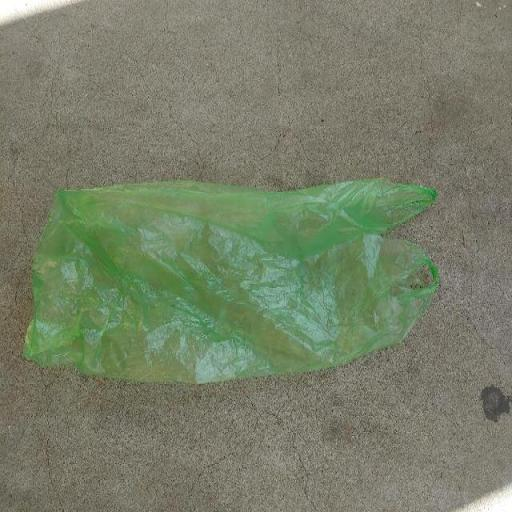plastic-bag: (20, 178, 442, 383)
